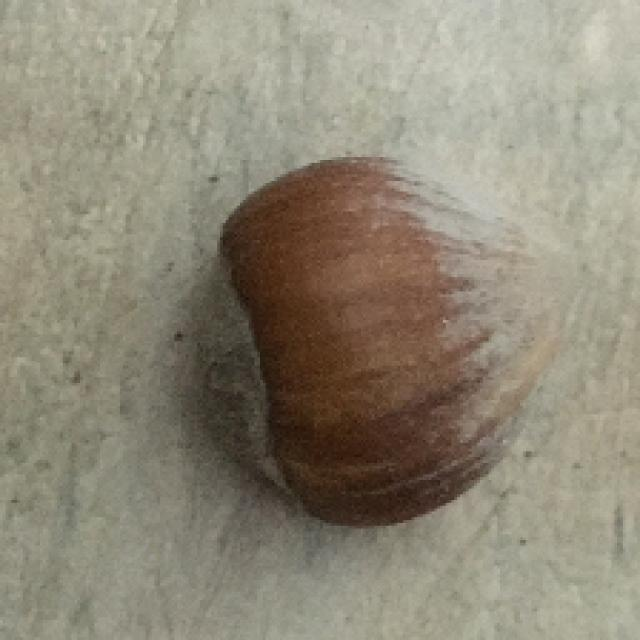qualityHazelnut: (179, 148, 598, 537)
